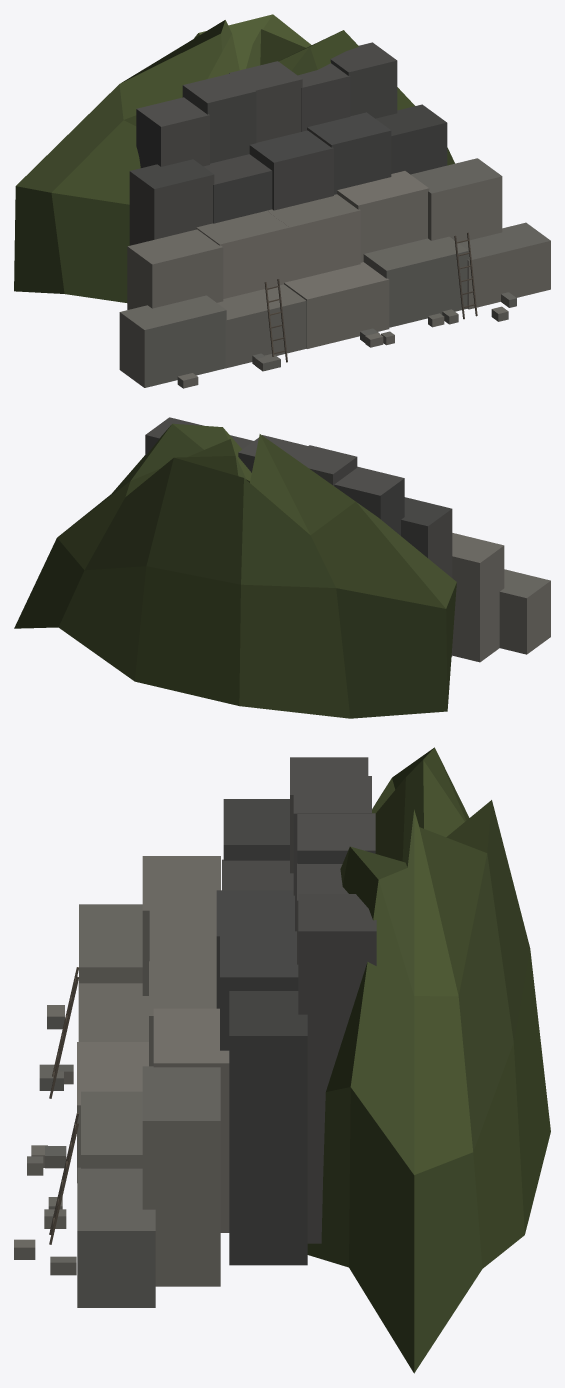
The model's file is walk_prop_quarry_face.glb.
3 renders of one model, top to bottom at view 1: azimuth 30°, elevation 25°; view 2: azimuth 150°, elevation 25°; view 3: azimuth 270°, elevation 25°, orthographic. The views are drawn at different scales.
Visible parts, largest first — view 1: walk_prop_quarry_face; view 2: walk_prop_quarry_face; view 3: walk_prop_quarry_face.
Part boxes in pixels (x1,y1,x2,y2): walk_prop_quarry_face: (14, 14, 550, 388); walk_prop_quarry_face: (14, 417, 550, 718); walk_prop_quarry_face: (14, 747, 550, 1373).
Size of what is drawn, in the model's own units: 18.1 by 10.01 by 11.66.
1 material, 1 textured.
